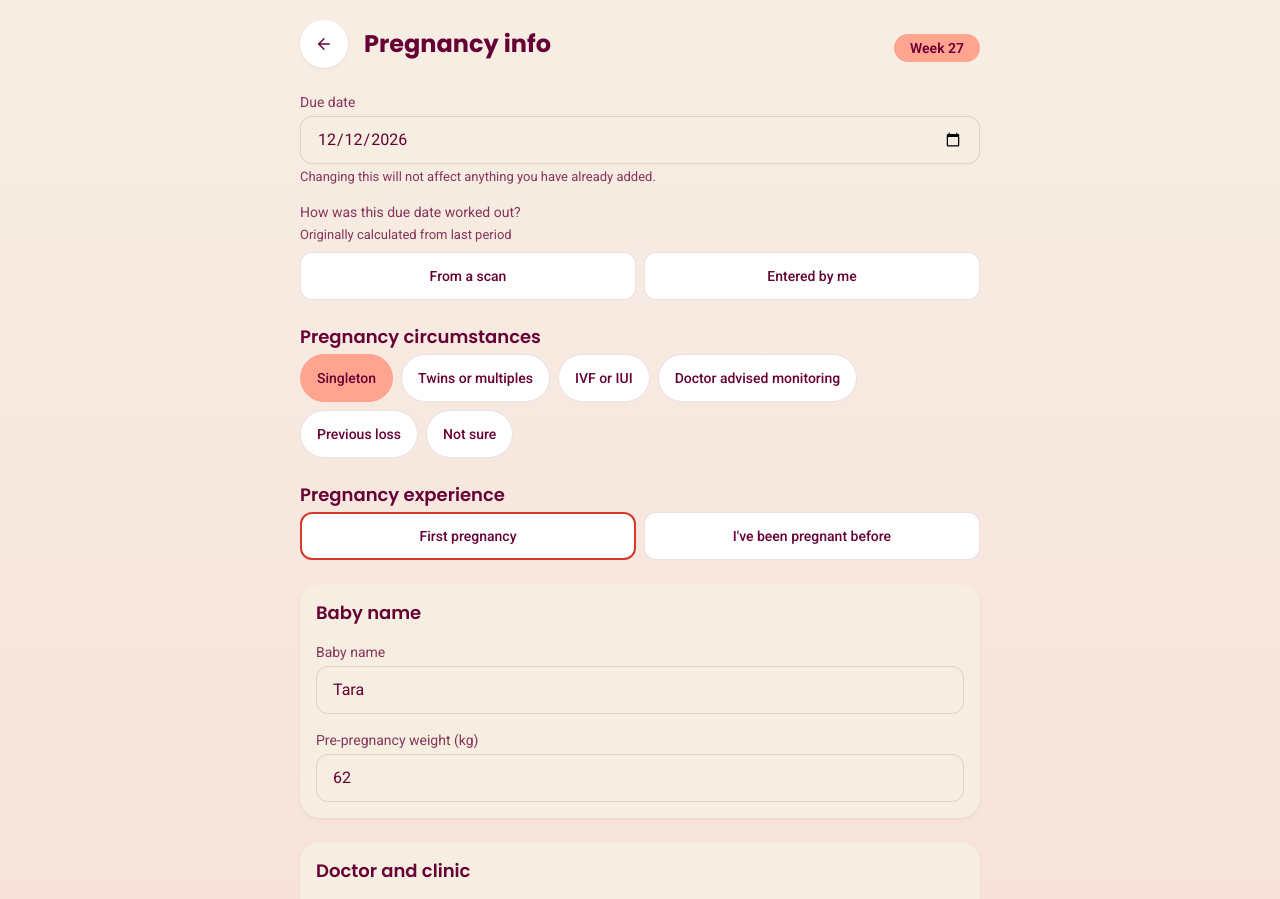
Test: PregnancyInfoForm › updates the displayed pregnancy week immediately when the due date changes
Expected: the text "Week 27" is shown, [894,34,980,62]
Type "2026-11-28" into the date field labelled "Due date" at [640, 140], box [300,116,980,164]
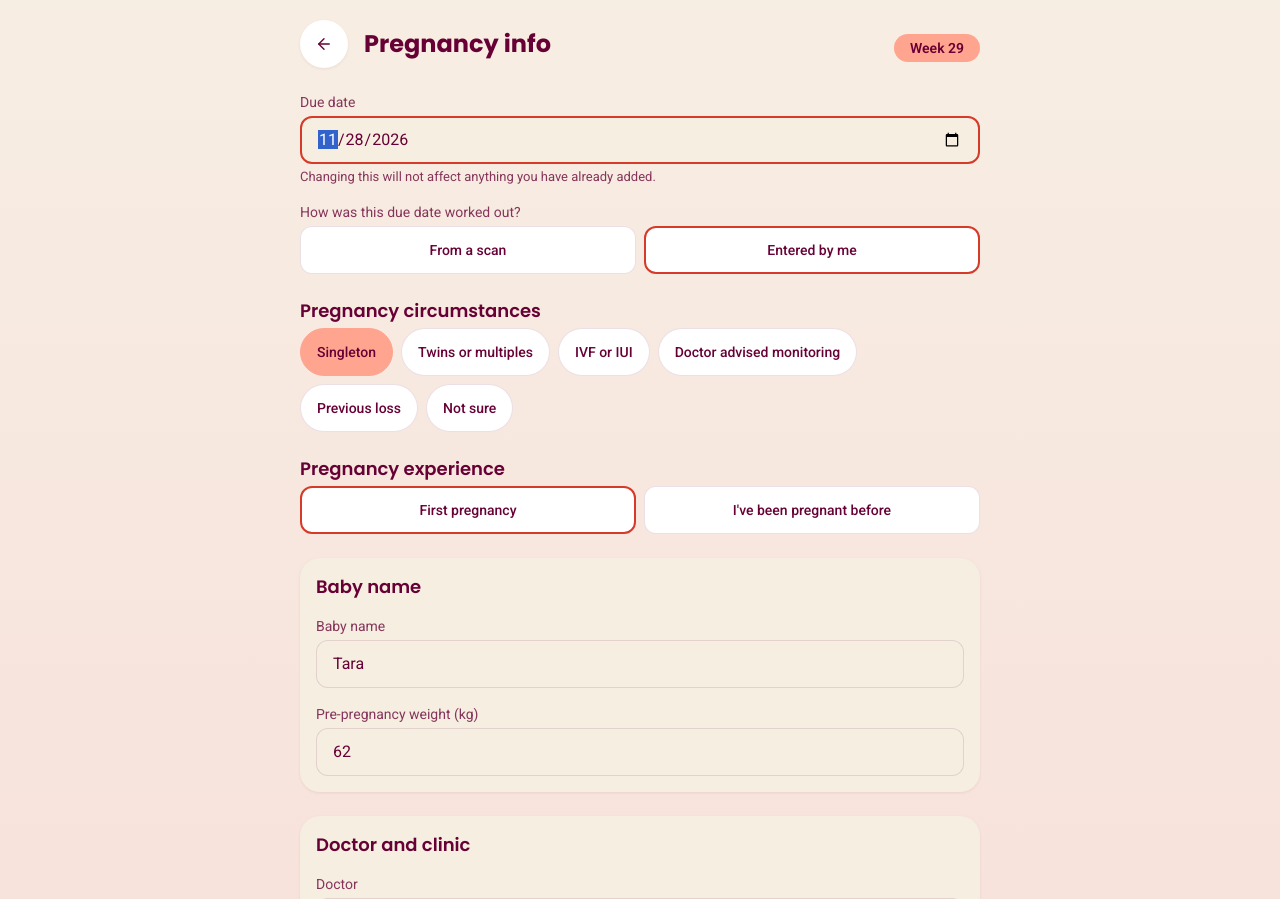
Result: the text "Week 29" is shown at [894,34,980,62]
